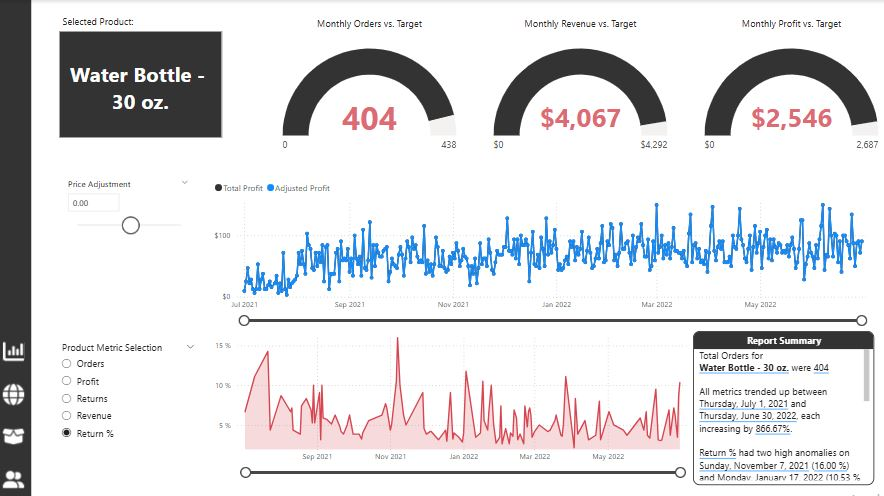

What the dashboard file says about the page in this screenshot:
{"tool":"powerbi","page":{"name":"Product Detail","canvas":[1280,720],"ordinal":2},"visuals":[{"type":"shape","box":[0,0,45,720],"z":0},{"type":"gauge","title":"Monthly Orders vs. Target","fields":{"Y":["Measure Table.Total Orders"],"MaxValue":["Measure Table.Order Target"]},"box":[401.8,24.5,260.6,226.1],"z":1000},{"type":"actionButton","box":[0,486.7,67.7,38.9],"z":1000,"group":"g1"},{"type":"gauge","title":"Monthly Revenue vs. Target","fields":{"Y":["Measure Table.Total Revenue"],"MaxValue":["Measure Table.Revenue Target"]},"box":[705.6,24.5,260.6,226.1],"z":2000},{"type":"actionButton","box":[0,609.6,67.7,38.9],"z":2000,"group":"g1"},{"type":"gauge","title":"Monthly Profit vs. Target","fields":{"Y":["Measure Table.Total Profit"],"MaxValue":["Measure Table.Profit Target"]},"box":[1009.4,24.5,260.6,226.1],"z":3000},{"type":"actionButton","box":[0,671,67.7,38.9],"z":3000,"group":"g1"},{"type":"lineChart","title":"Profit Trending","fields":{"Category":["Calendar Lookup.Date Hierarchy.Start of Year","Calendar Lookup.Date Hierarchy.Start of Month","Calendar Lookup.Date Hierarchy.Start of Week","Calendar Lookup.Date Hierarchy.Date"],"Y":["Measure Table.Total Profit","Measure Table.Adjusted Profit"]},"box":[303.8,250.6,966.2,221.8],"z":4000},{"type":"actionButton","box":[0,548.1,67.7,38.9],"z":4000,"group":"g1"},{"type":"areaChart","title":"Return Trending","fields":{"Y":["Measure Table.Return Rate"],"Category":["Calendar Lookup.Date Hierarchy.Start of Year","Calendar Lookup.Date Hierarchy.Start of Month","Calendar Lookup.Date Hierarchy.Start of Week","Calendar Lookup.Date Hierarchy.Date"]},"box":[303.8,472.3,704.2,218.9],"z":5000},{"type":"card","fields":{"Values":["Min(Product Lookup.ProductName)"]},"box":[85,44.6,234.7,154.1],"z":6000},{"type":"textbox","box":[85,17.3,234.7,27.4],"z":7000},{"type":"group","id":"g1","title":"Navigation Buttons","box":[0,486.7,67.7,223.2],"z":8000},{"type":"slicer","fields":{"Values":["Price Adjustment.Price Adjustment"]},"box":[85,250.6,198.7,131],"z":9000},{"type":"slicer","fields":{"Values":["Product Metric Selection.Product Metric Selection"]},"box":[76.3,486.7,216,164.2],"z":10000},{"type":"textbox","title":"Report Summary","box":[997.9,476.6,260.6,221.8],"z":11000}]}

Visuals, with their boxes on the page's 1280x720 design canvas (x1, y1, x2, y2). These are canvas units, not pixel positions in the 884x496 screenshot, which may show the page scaled, cropped or inside an application window:
shape: BBox(0, 0, 45, 720)
"Monthly Orders vs. Target" gauge: BBox(402, 24, 662, 251)
actionButton: BBox(0, 487, 68, 526)
"Monthly Revenue vs. Target" gauge: BBox(706, 24, 966, 251)
actionButton: BBox(0, 610, 68, 648)
"Monthly Profit vs. Target" gauge: BBox(1009, 24, 1270, 251)
actionButton: BBox(0, 671, 68, 710)
"Profit Trending" lineChart: BBox(304, 251, 1270, 472)
actionButton: BBox(0, 548, 68, 587)
"Return Trending" areaChart: BBox(304, 472, 1008, 691)
card - Min(Product Lookup.ProductName): BBox(85, 45, 320, 199)
textbox: BBox(85, 17, 320, 45)
"Navigation Buttons" group: BBox(0, 487, 68, 710)
slicer - Price Adjustment.Price Adjustment: BBox(85, 251, 284, 382)
slicer - Product Metric Selection.Product Metric Selection: BBox(76, 487, 292, 651)
"Report Summary" textbox: BBox(998, 477, 1258, 698)
